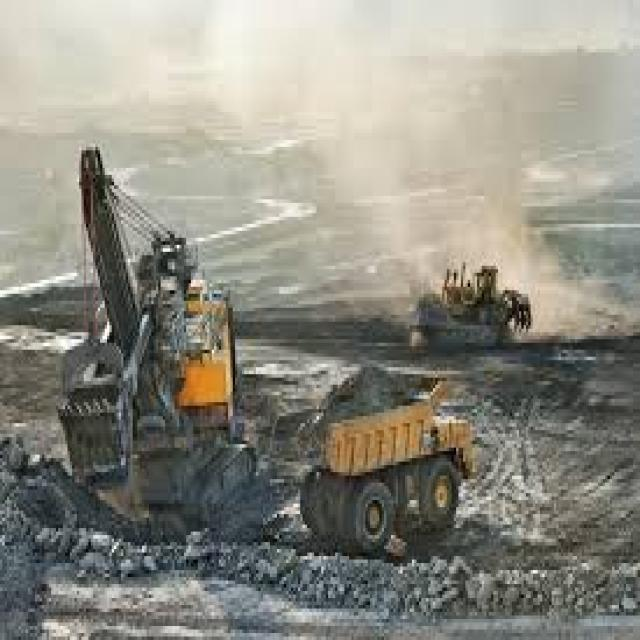dump_truck: (252, 349, 494, 566)
